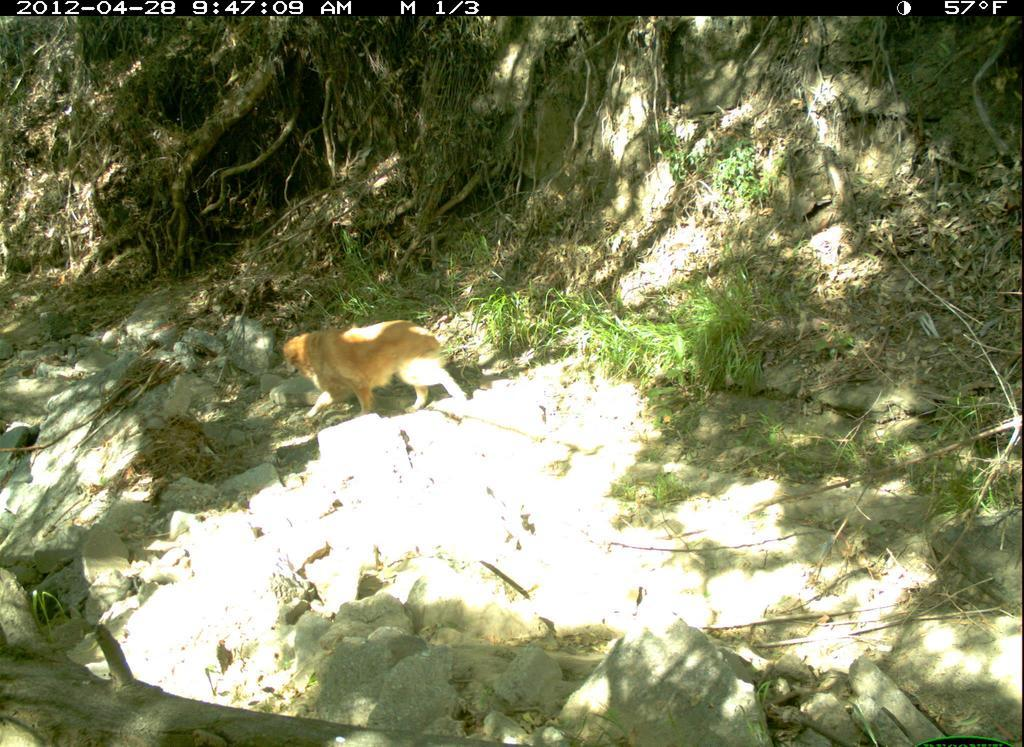dog: (281, 323, 475, 428)
